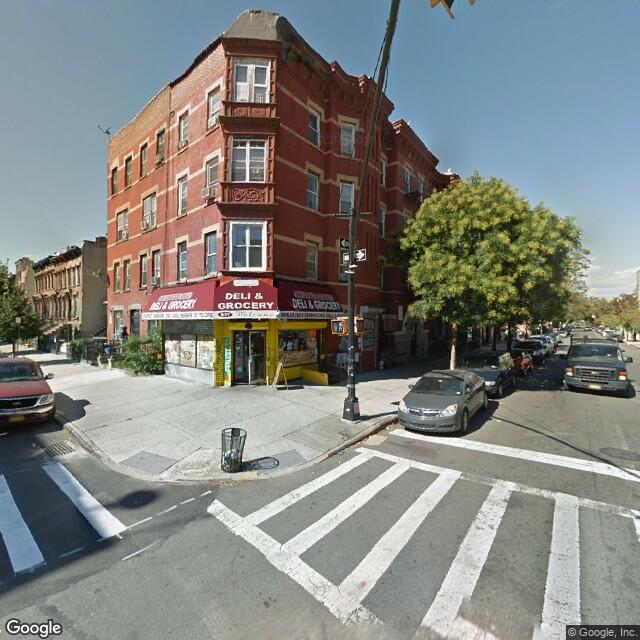litter: (494, 418, 503, 422), (337, 450, 344, 454), (384, 423, 387, 431)
